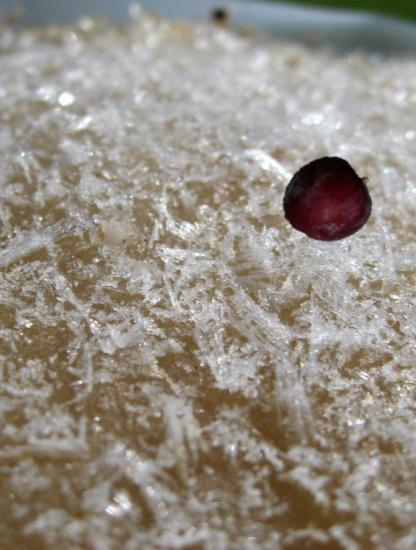Plum: (281, 153, 374, 246)
